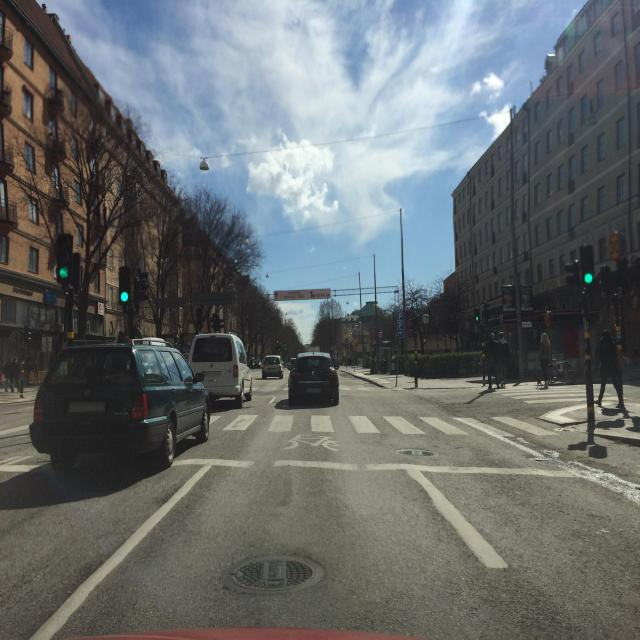Good: (218, 546, 327, 599), (394, 444, 440, 461)
